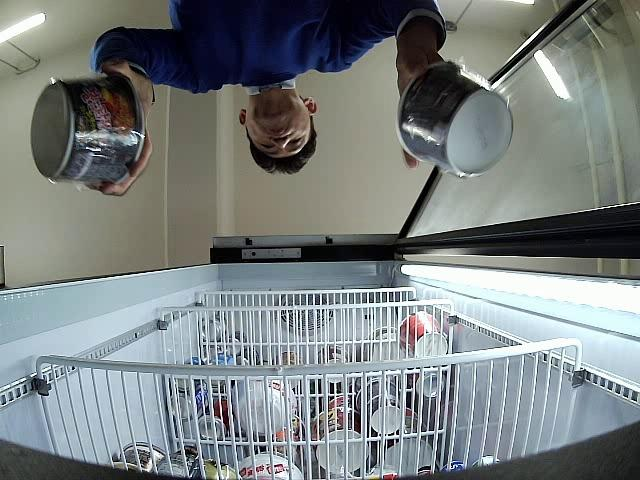00_hand: (101, 60, 154, 197), (397, 47, 445, 168)
07_buldak_L: (396, 61, 513, 176), (30, 73, 145, 184)
